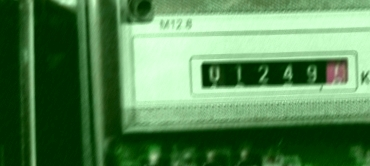0: (206, 62, 219, 82)
1: (231, 62, 241, 82)
2: (255, 63, 268, 83)
4: (280, 62, 291, 81)
7: (328, 58, 340, 77)
9: (303, 62, 316, 84)
screen: (180, 49, 356, 96)
